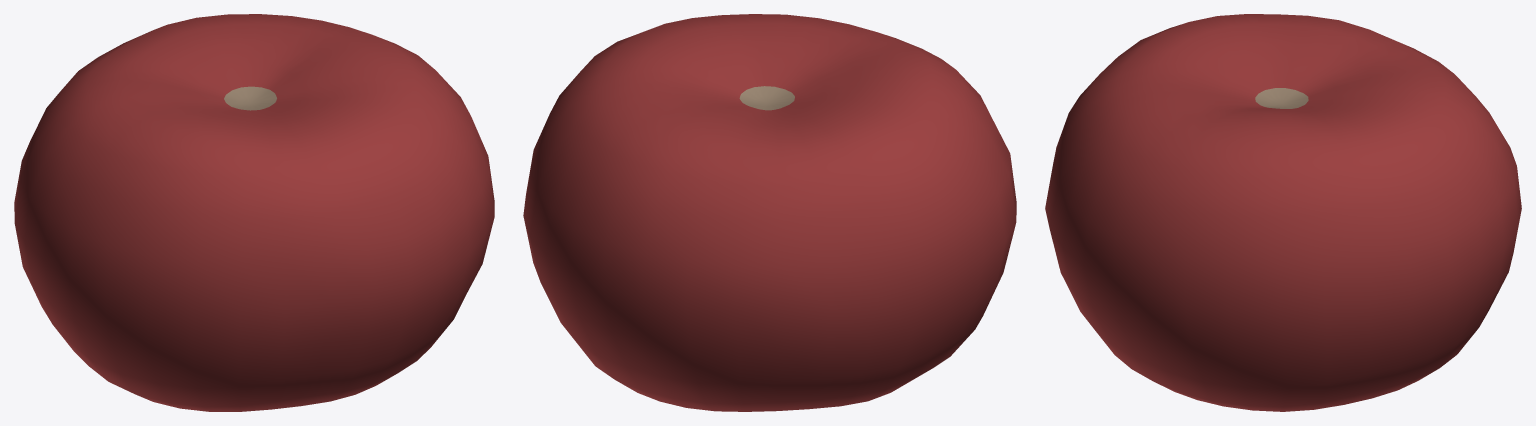
The model's file is tomato.FBX.
The picture shows the model from 3 angles, left to right: view 1: azimuth 30°, elevation 25°; view 2: azimuth 150°, elevation 25°; view 3: azimuth 270°, elevation 25°; orthographic projection. The views are drawn at different scales.
Parts seen in each view (by area): view 1: tomato; view 2: tomato; view 3: tomato.
Boxes of the visible parts, x1,y1,x2,y2 form: tomato: (14,14,494,411); tomato: (523,14,1016,411); tomato: (1045,14,1521,411).
Bounding box in the file's own units: 16 × 10.37 × 15.84.
